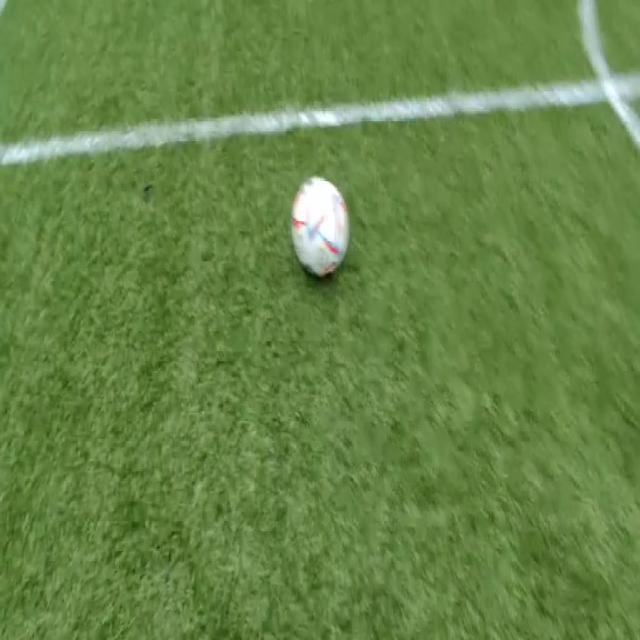ball: (292, 176, 349, 278)
